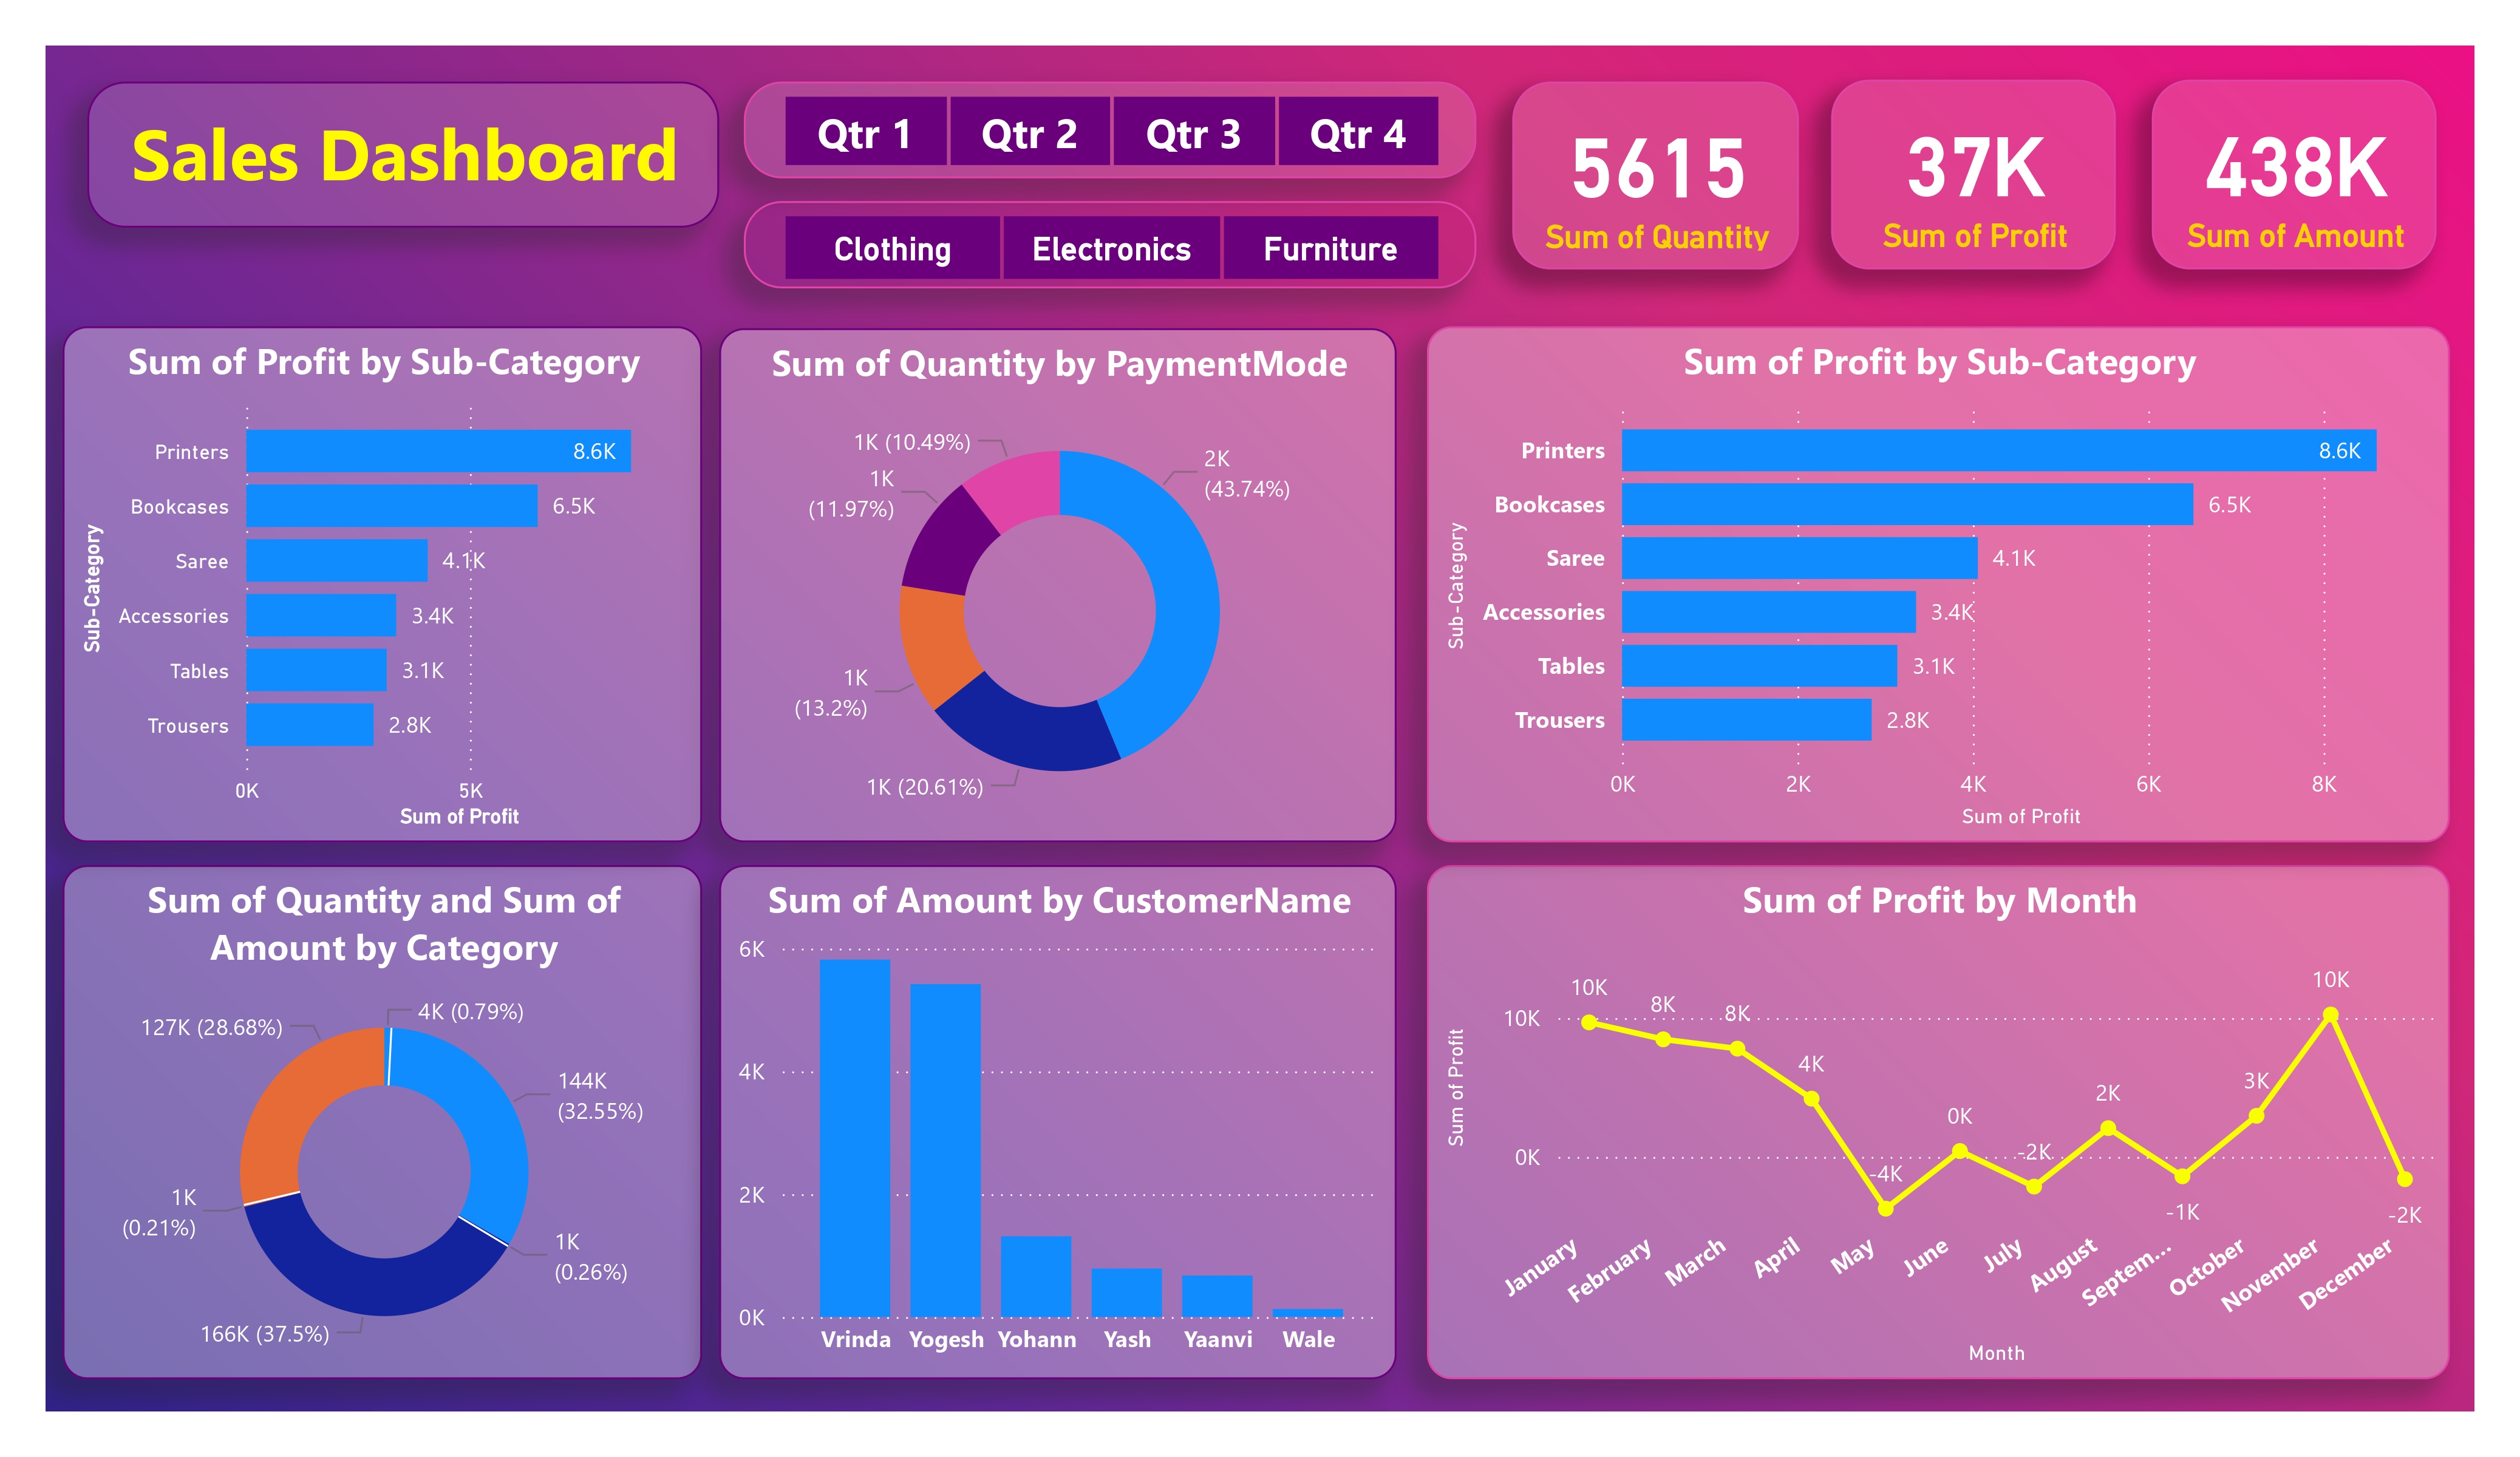

The dashboard page shown, as its layout file describes it:
{"tool":"powerbi","page":{"name":"Page 1","canvas":[1280,720],"ordinal":0},"visuals":[{"type":"textbox","box":[21.5,18.8,333.9,76.7],"z":0},{"type":"lineChart","fields":{"Category":["Orders.Order Date.Variation.Date Hierarchy.Month"],"Y":["Details.Profit"]},"box":[727.7,431.8,539.4,271.7],"z":1000},{"type":"barChart","fields":{"Y":["Details.Profit"],"Category":["Details.Sub-Category"]},"box":[727.7,148,539.4,271.7],"z":2000},{"type":"donutChart","fields":{"Y":["Details.Quantity","Details.Amount"],"Category":["Details.Category"]},"box":[9.4,431.8,336.3,271.7],"z":3000},{"type":"donutChart","fields":{"Y":["Details.Quantity"],"Category":["Details.PaymentMode"]},"box":[355.1,149.3,356.5,270.4],"z":4000},{"type":"card","fields":{"Values":["Details.Amount"]},"box":[1110.3,18.5,150,100],"z":5000},{"type":"card","fields":{"Values":["Details.Profit"]},"box":[940.8,18.5,150,100],"z":6000},{"type":"card","fields":{"Values":["Details.Quantity"]},"box":[772.7,18.8,150.8,99.6],"z":7000},{"type":"barChart","fields":{"Y":["Details.Profit"],"Category":["Details.Sub-Category"]},"box":[9.4,148,336.3,271.7],"z":8000},{"type":"lineStackedColumnComboChart","fields":{"Category":["Orders.CustomerName"],"Y":["Details.Amount"]},"box":[355.1,431.8,356.5,271.7],"z":9000},{"type":"slicer","fields":{"Values":["Orders.Order Date.Variation.Date Hierarchy.Quarter"]},"box":[367.5,18.8,386.4,51.2],"z":10000},{"type":"slicer","fields":{"Values":["Details.Category"]},"box":[367.5,82.1,386.4,45.8],"z":11000}]}

Visuals, with their boxes on the page's 1280x720 design canvas (x1, y1, x2, y2). These are canvas units, not pixel positions in the 2520x1457 screenshot, which may show the page scaled, cropped or inside an application window:
textbox: rect(22, 19, 355, 96)
lineChart - Orders.Order Date.Variation.Date Hierarchy.Month x Details.Profit: rect(728, 432, 1267, 704)
barChart - Details.Profit x Details.Sub-Category: rect(728, 148, 1267, 420)
donutChart - Details.Quantity x Details.Amount: rect(9, 432, 346, 704)
donutChart - Details.Quantity x Details.PaymentMode: rect(355, 149, 712, 420)
card - Details.Amount: rect(1110, 18, 1260, 118)
card - Details.Profit: rect(941, 18, 1091, 118)
card - Details.Quantity: rect(773, 19, 924, 118)
barChart - Details.Profit x Details.Sub-Category: rect(9, 148, 346, 420)
lineStackedColumnComboChart - Orders.CustomerName x Details.Amount: rect(355, 432, 712, 704)
slicer - Orders.Order Date.Variation.Date Hierarchy.Quarter: rect(368, 19, 754, 70)
slicer - Details.Category: rect(368, 82, 754, 128)
